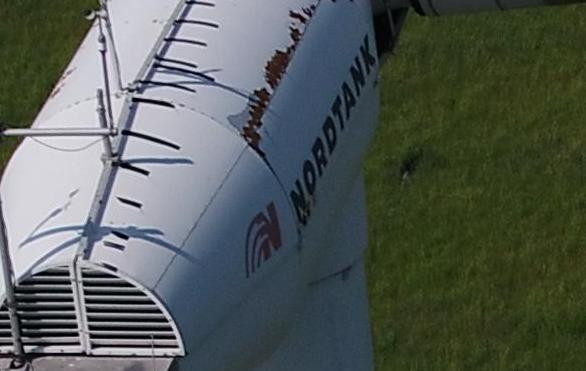damage: (241, 88, 270, 147), (264, 48, 289, 88), (289, 26, 302, 52), (290, 10, 309, 26), (51, 82, 66, 98), (62, 67, 79, 80), (310, 3, 317, 11)
